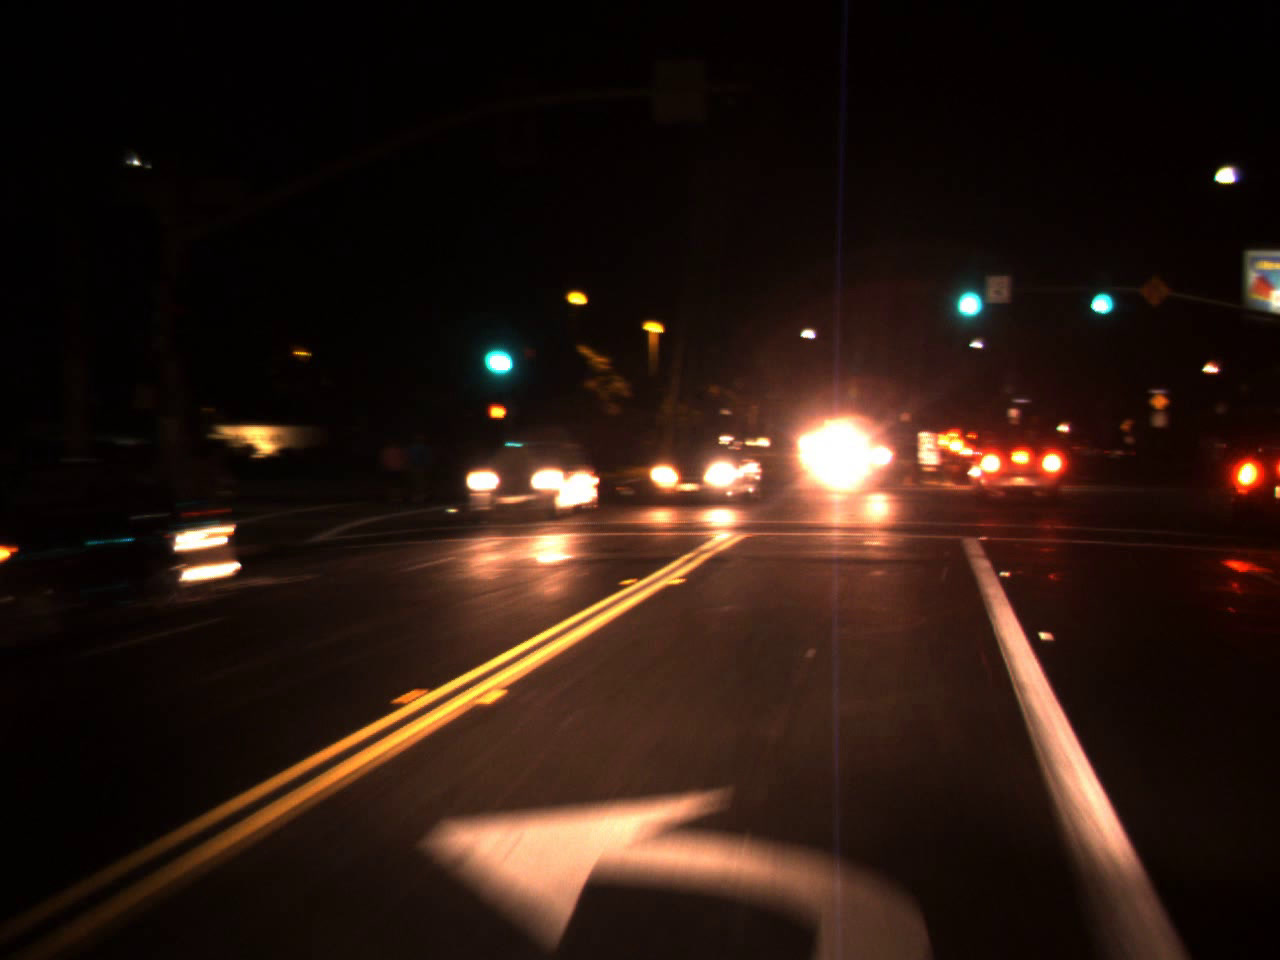go: (471, 316, 519, 385), (946, 258, 987, 327), (1082, 264, 1118, 324)
